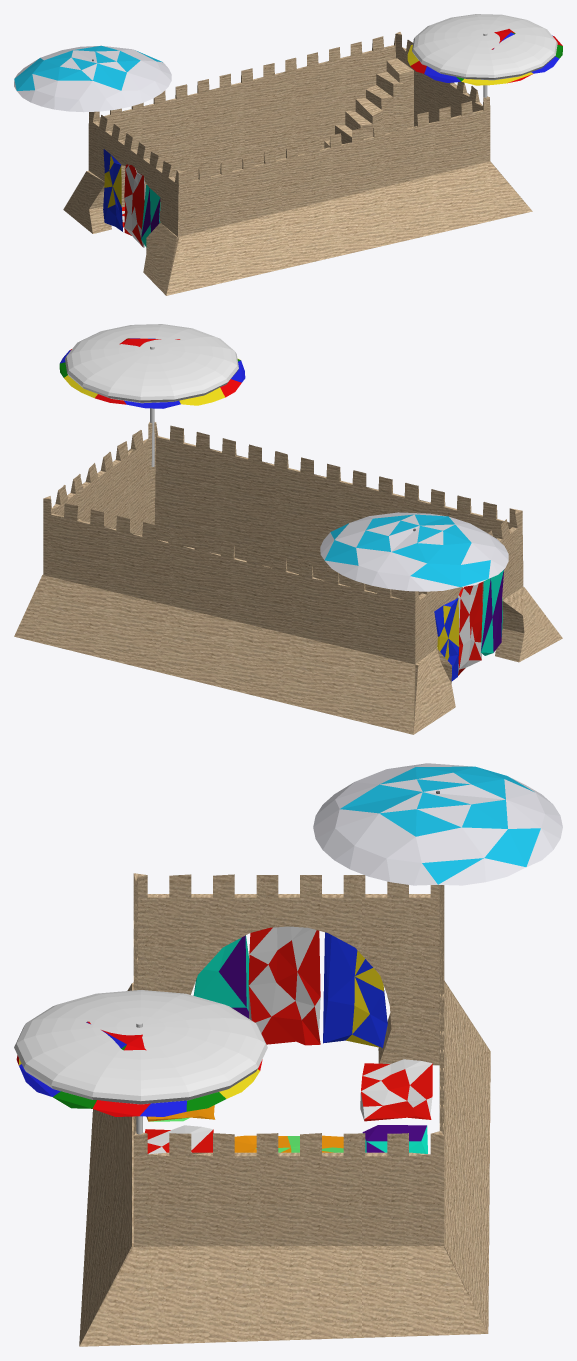
The model's file is Sand Castle.glb.
The picture shows the model from 3 angles, top to bottom: view 1: azimuth 30°, elevation 25°; view 2: azimuth 150°, elevation 25°; view 3: azimuth 270°, elevation 25°; orthographic projection. The views are drawn at different scales.
Visible parts, largest first — view 1: Castle Walls, Beach Umbrella, Umbrella-convcolonly.001, Beach Towel, Beach Umbrella.001, Towel 5, Towel 2; view 2: Castle Walls, Beach Umbrella, Umbrella-convcolonly.001, Beach Towel, Beach Umbrella.001, Towel 2, Towel 5; view 3: Castle Walls, Beach Umbrella, Umbrella-convcolonly.001, Beach Towel, Towel 5, Beach Towel.002, Beach Umbrella.001, Towel 2, Towel 2.002, Beach Towel.003, Beach Towel 3.001.
Part boxes in pixels (<box>): Castle Walls: <box>63,32,532,295</box>; Beach Umbrella: <box>14,45,171,112</box>; Umbrella-convcolonly.001: <box>412,14,557,80</box>; Beach Towel: <box>124,164,145,247</box>; Beach Umbrella.001: <box>407,29,562,85</box>; Towel 5: <box>103,149,122,231</box>; Towel 2: <box>141,184,160,247</box>; Castle Walls: <box>14,422,562,734</box>; Beach Umbrella: <box>320,512,508,591</box>; Umbrella-convcolonly.001: <box>65,324,238,403</box>; Beach Towel: <box>457,582,482,675</box>; Beach Umbrella.001: <box>59,338,245,408</box>; Towel 2: <box>481,569,504,655</box>; Towel 5: <box>434,598,459,681</box>; Castle Walls: <box>79,873,490,1346</box>; Beach Umbrella: <box>313,763,562,885</box>; Umbrella-convcolonly.001: <box>14,990,267,1104</box>; Beach Towel: <box>248,926,320,1045</box>; Towel 5: <box>323,932,387,1048</box>; Beach Towel.002: <box>360,1059,432,1121</box>; Beach Umbrella.001: <box>16,1021,262,1116</box>; Towel 2: <box>193,935,249,1018</box>; Towel 2.002: <box>362,1125,427,1153</box>; Beach Towel.003: <box>145,1125,213,1154</box>; Beach Towel 3.001: <box>234,1135,343,1152</box>.
Size of what is drawn, in the model's own units: 13.09 by 4.98 by 8.09.
Materials: 28 (1 with a texture image).
